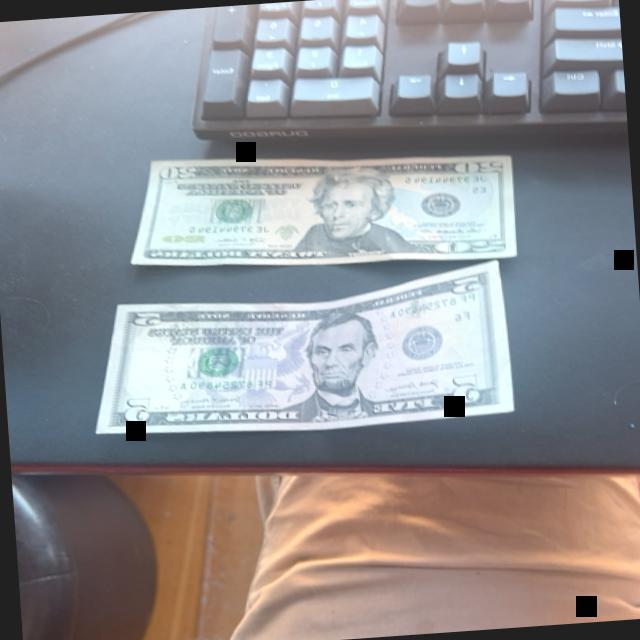five: (84, 260, 516, 444)
twenty: (123, 134, 520, 286)
